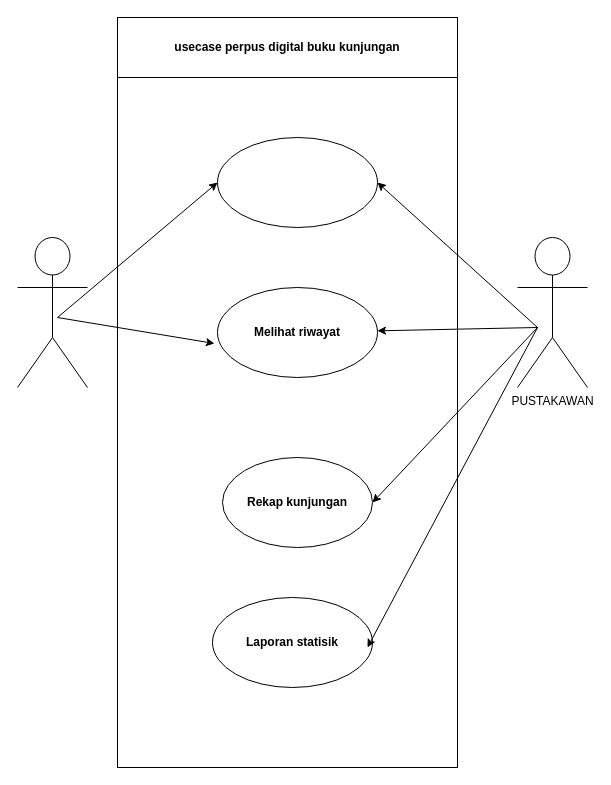
The diagram is 611 pixels wide and 785 high, and some of its shapes have lost their labels. The box of each missing label's shape, as (x1, y1, x2, y2) in pixels:
ANGGOTA: (16, 236, 88, 388)
Isi buku kunjungan: (216, 136, 378, 228)
